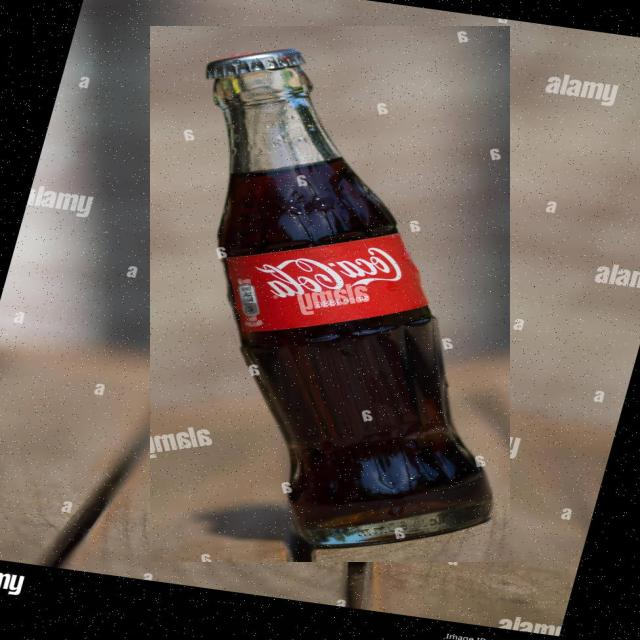coca-cola: (150, 26, 510, 562)
